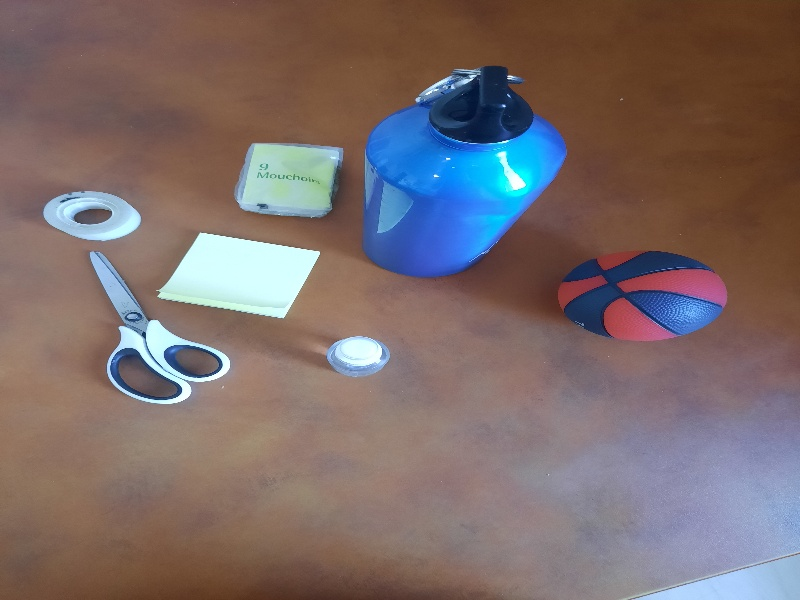ballon: (552, 251, 728, 341)
ciseaux: (88, 249, 233, 405)
gel: (326, 336, 391, 381)
gourde: (360, 65, 569, 277)
mouchoirs: (235, 140, 345, 221)
post-it: (155, 231, 321, 323)
scotch: (40, 191, 145, 242)
